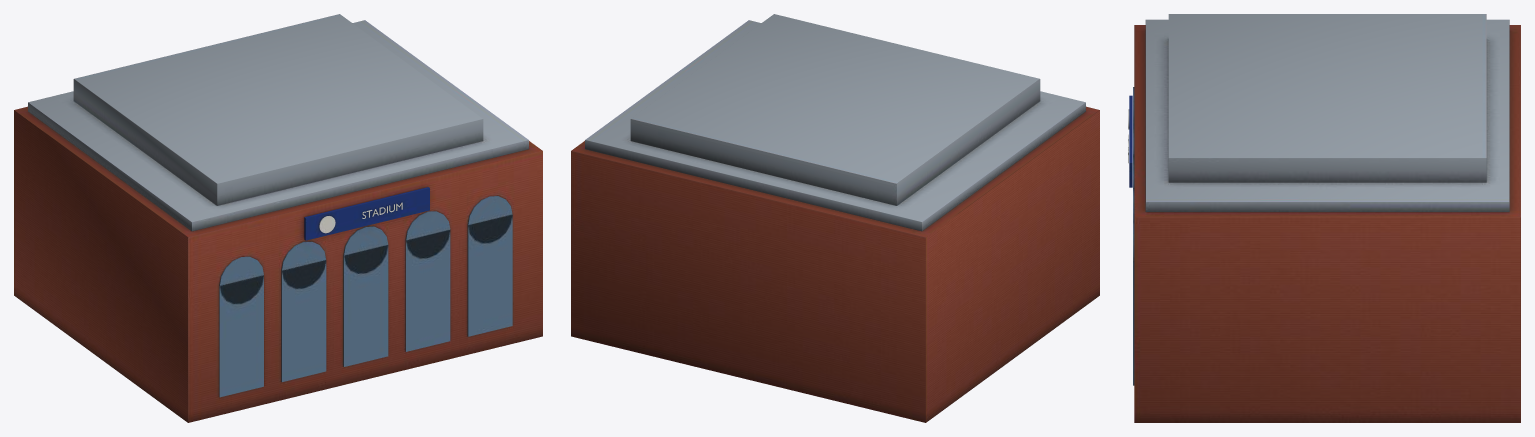
File: lucas_oil.glb
The picture shows the model from 3 angles, left to right: view 1: azimuth 30°, elevation 25°; view 2: azimuth 150°, elevation 25°; view 3: azimuth 270°, elevation 25°; orthographic projection. The views are drawn at different scales.
Visible parts, largest first — view 1: lucas_oil; view 2: lucas_oil; view 3: lucas_oil.
Boxes of the visible parts, x1,y1,x2,y2 form: lucas_oil: (14,14,542,422); lucas_oil: (571,14,1099,422); lucas_oil: (1128,14,1520,422).
Bounding box in the file's own units: 40 × 23.4 × 34.56.
1 material, 1 textured.
